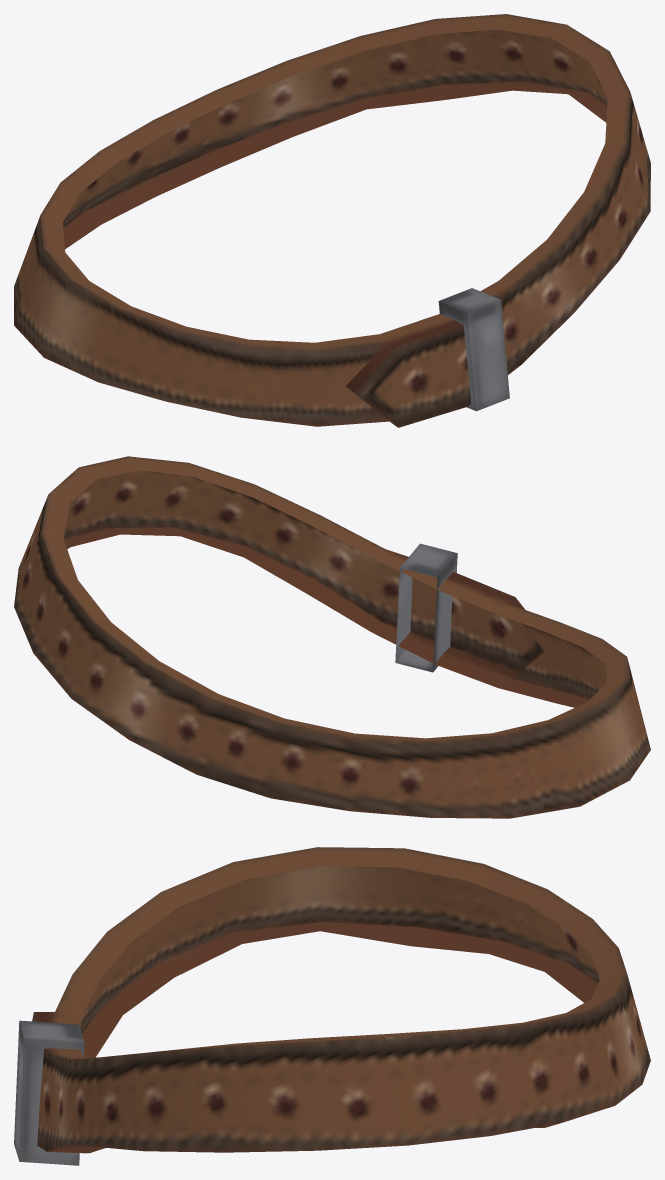
File: greenoutfitbelt.glb
3 renders of one model, top to bottom at view 1: azimuth 30°, elevation 25°; view 2: azimuth 150°, elevation 25°; view 3: azimuth 270°, elevation 25°, orthographic. The views are drawn at different scales.
Parts seen in each view (by area): view 1: greenoutfitbelt; view 2: greenoutfitbelt; view 3: greenoutfitbelt.
Boxes of the visible parts, box(x1,y1,x2,y2) form: greenoutfitbelt: box(14, 14, 650, 427); greenoutfitbelt: box(14, 456, 650, 818); greenoutfitbelt: box(14, 847, 650, 1165).
Bounding box in the file's own units: 0.436 × 0.1539 × 0.3406.
Materials: 1 (1 with a texture image).
